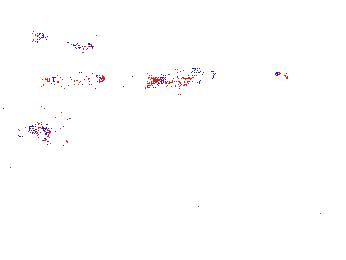glassfish: (25, 104, 72, 140)
red belly glassfish: (272, 69, 295, 80), (291, 50, 304, 62)
redtail glassfish: (144, 66, 218, 89), (29, 30, 98, 54), (41, 71, 101, 90)
